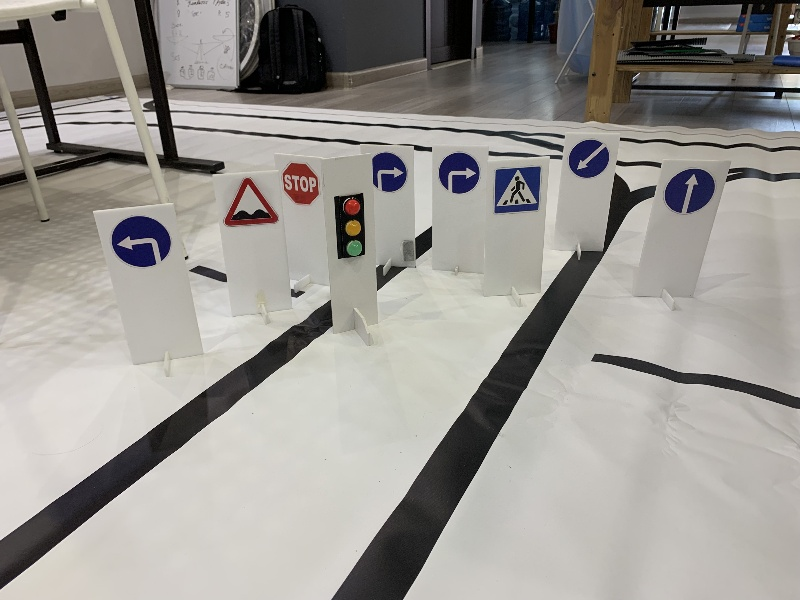Left: (108, 213, 174, 269)
Nerov: (221, 175, 281, 227)
Right: (369, 151, 410, 193), (439, 153, 480, 193)
Stop: (280, 163, 318, 205)
forw: (665, 168, 714, 215)
pesh: (491, 164, 544, 216)
prep: (570, 138, 610, 180)
